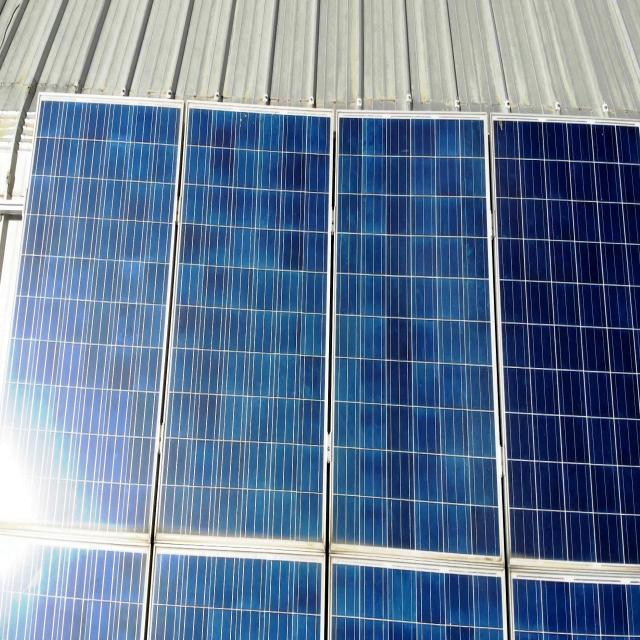no faulty: (154, 105, 332, 558), (332, 114, 509, 569), (10, 96, 182, 544), (491, 115, 640, 568)
